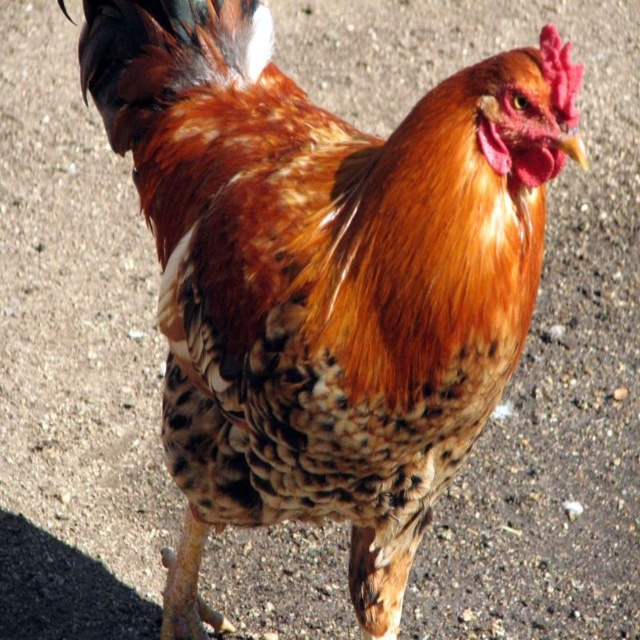Chicken: (34, 0, 586, 638)
